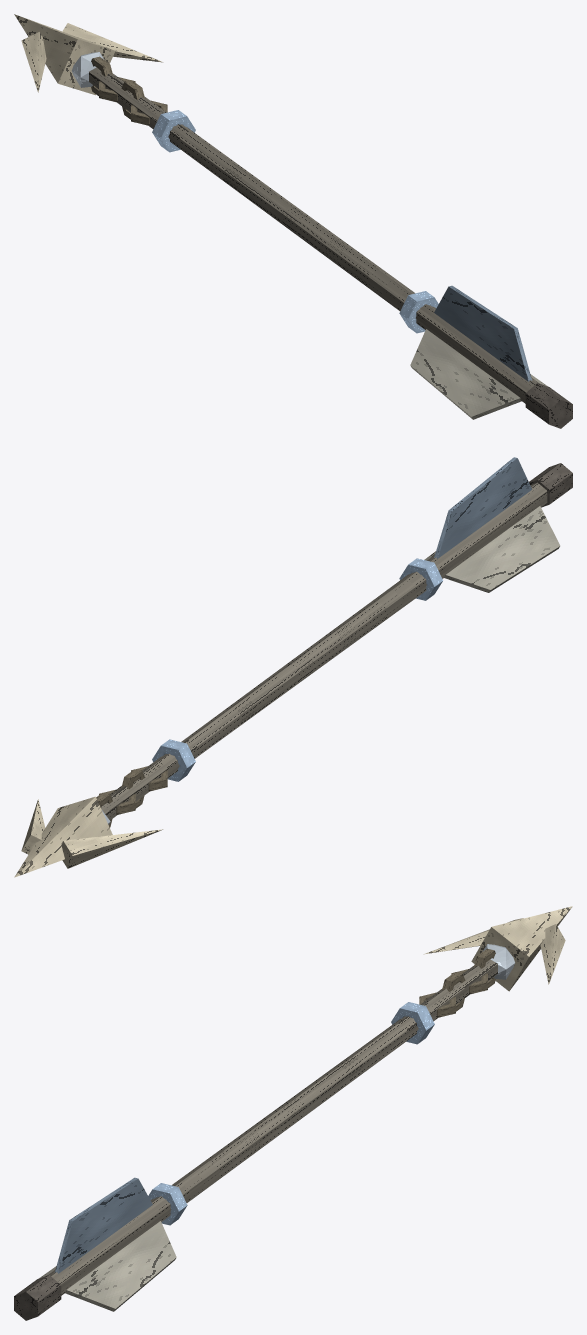
File: proj_arrow_pinning.gltf
3 views of the same model, one above another, from view 1: azimuth 30°, elevation 25°; view 2: azimuth 150°, elevation 25°; view 3: azimuth 330°, elevation 25° (orthographic).
Visible parts, largest first — view 1: body, glow; view 2: body, glow; view 3: body, glow.
Part boxes in pixels (x1,y1,x2,y2): body: (14, 14, 572, 428); glow: (72, 52, 438, 333); body: (14, 457, 572, 877); glow: (102, 558, 443, 824); body: (14, 906, 572, 1320); glow: (148, 944, 514, 1225).
Size of the model in its own units: 0.1 by 0.0629 by 0.752.
2 materials, 2 textured.
